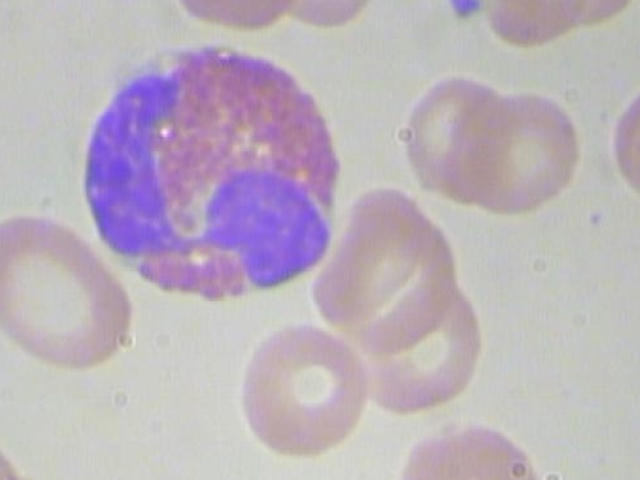Platelets: (444, 0, 490, 28)
RBC: (0, 198, 140, 383), (442, 77, 584, 230), (231, 313, 372, 466), (396, 405, 543, 480), (470, 0, 598, 55), (161, 0, 303, 41)
WBC: (66, 31, 351, 314)
